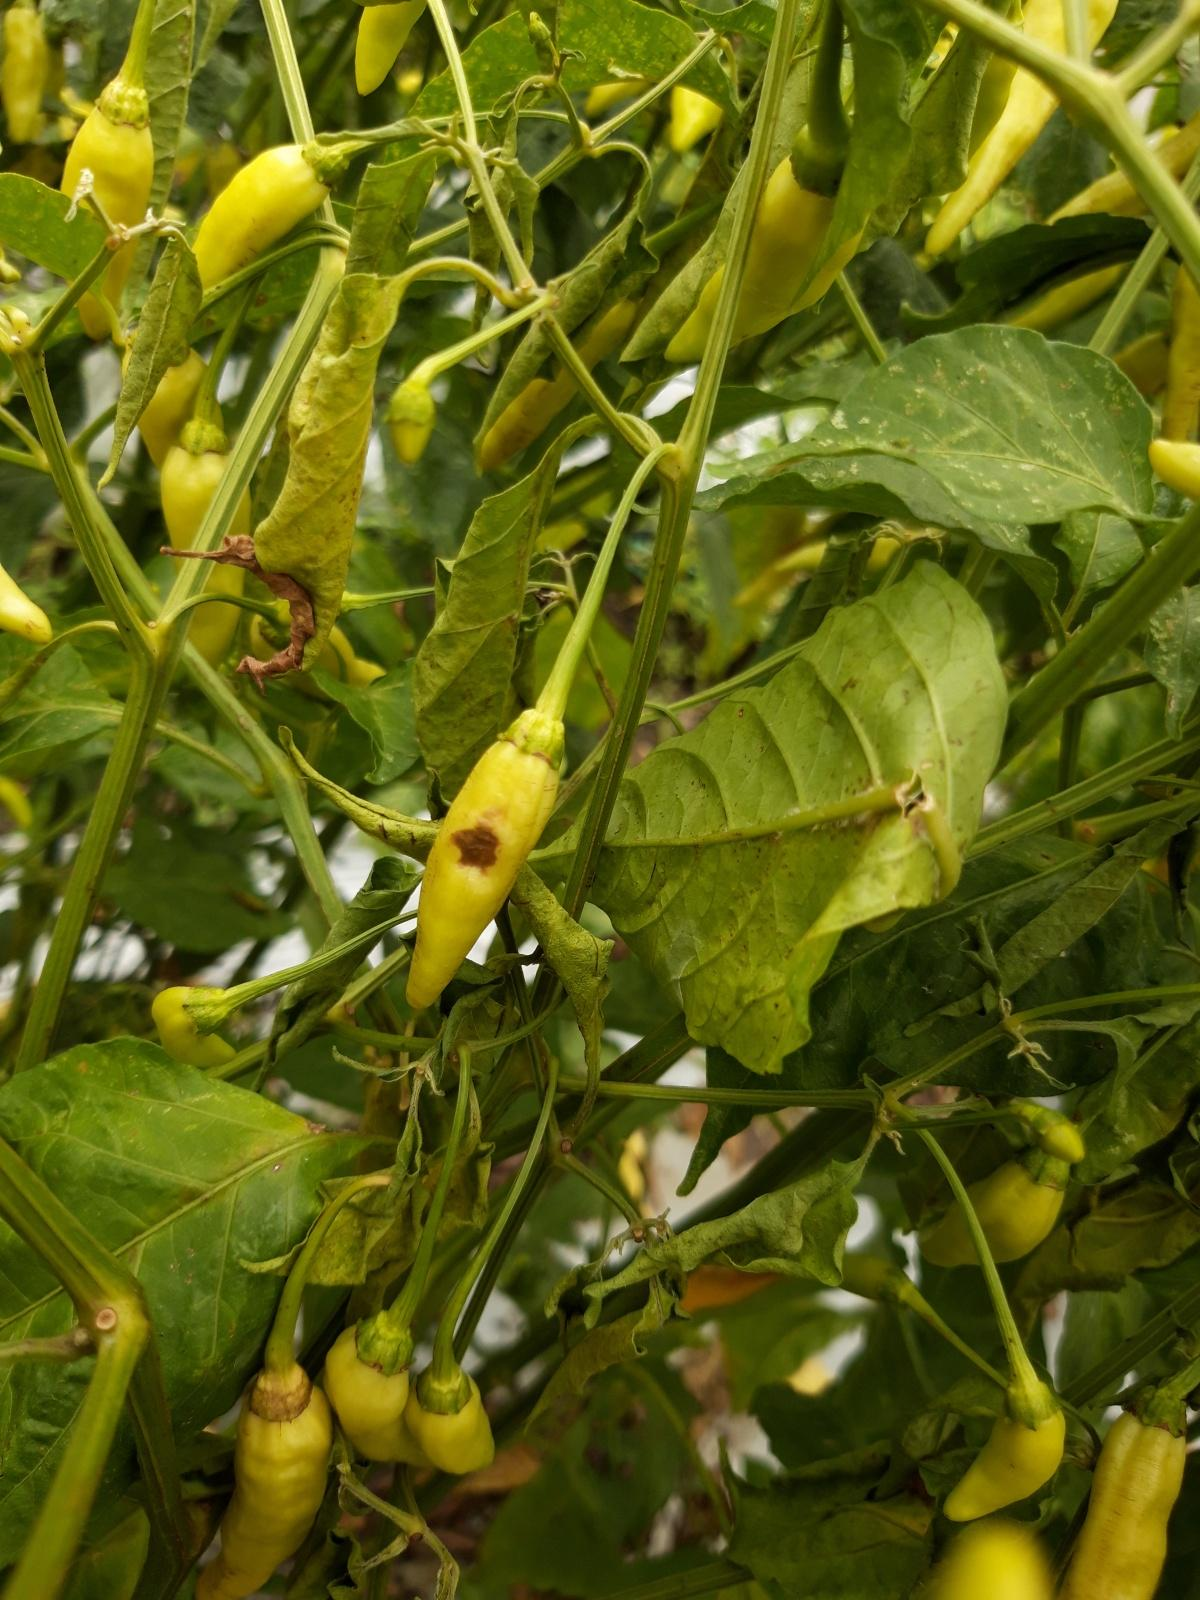cabai_normal: (661, 122, 850, 364), (194, 1364, 334, 1600), (1056, 1380, 1200, 1600), (478, 291, 643, 475), (61, 81, 155, 341), (193, 141, 347, 292), (160, 417, 251, 670), (321, 1311, 436, 1466), (921, 1149, 1070, 1267), (943, 1382, 1065, 1522), (405, 1362, 495, 1474), (151, 986, 238, 1068), (0, 0, 49, 144), (387, 379, 435, 464)
lalat_buah: (406, 709, 565, 1008)
